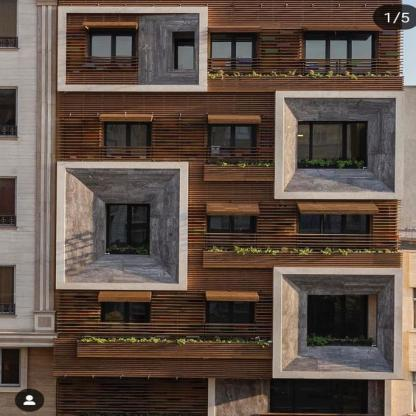Building Outline: (58, 0, 402, 416)
Cornice: (300, 209, 379, 214), (306, 26, 382, 30), (83, 22, 137, 27), (208, 119, 262, 124), (98, 297, 151, 302), (207, 211, 260, 216), (206, 296, 259, 301), (99, 117, 153, 121), (207, 27, 261, 31)
Deco: (373, 4, 416, 30)
Door: (270, 379, 368, 416)
Door Hole: (86, 28, 139, 57)
Facade: (58, 0, 402, 416)
Floor: (58, 180, 402, 284), (57, 0, 402, 85), (58, 92, 402, 174), (58, 291, 402, 366), (57, 371, 402, 416)
Floor Slab: (58, 85, 402, 92), (58, 174, 402, 181), (58, 365, 402, 372), (58, 284, 402, 290)
Window: (303, 33, 376, 75), (299, 209, 370, 248), (308, 295, 368, 340), (298, 123, 365, 162), (105, 204, 150, 256), (88, 31, 135, 71), (208, 124, 257, 161), (213, 34, 258, 74), (103, 122, 151, 158), (100, 301, 150, 333), (206, 301, 256, 333), (208, 211, 255, 245), (174, 38, 193, 69)
Window Hole: (307, 295, 377, 347), (298, 121, 367, 169), (303, 30, 379, 59), (299, 209, 372, 234), (210, 32, 259, 57), (103, 122, 151, 147), (208, 124, 259, 147), (207, 211, 257, 234), (206, 301, 256, 324), (100, 301, 150, 322), (173, 31, 195, 69)
